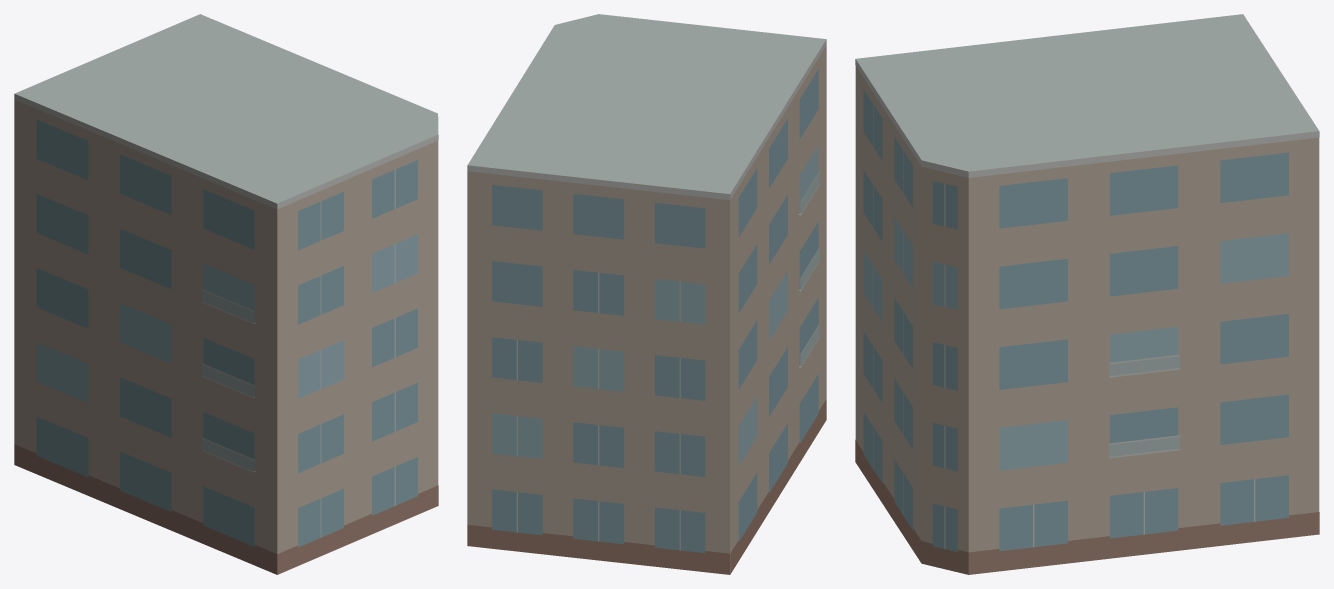
File: survey-upis-32750779.glb
3 views of the same model, side by side, from view 1: azimuth 30°, elevation 25°; view 2: azimuth 150°, elevation 25°; view 3: azimuth 270°, elevation 25° (orthographic). The views are drawn at different scales.
Visible parts, largest first — view 1: survey-upis-32750779.tmp; view 2: survey-upis-32750779.tmp; view 3: survey-upis-32750779.tmp.
Boxes of the visible parts, x1=… form: survey-upis-32750779.tmp: x1=14, y1=14, x2=438, y2=574; survey-upis-32750779.tmp: x1=467, y1=14, x2=826, y2=574; survey-upis-32750779.tmp: x1=855, y1=14, x2=1319, y2=574.
Bounding box in the file's own units: 13.05 × 15.55 × 16.23.
